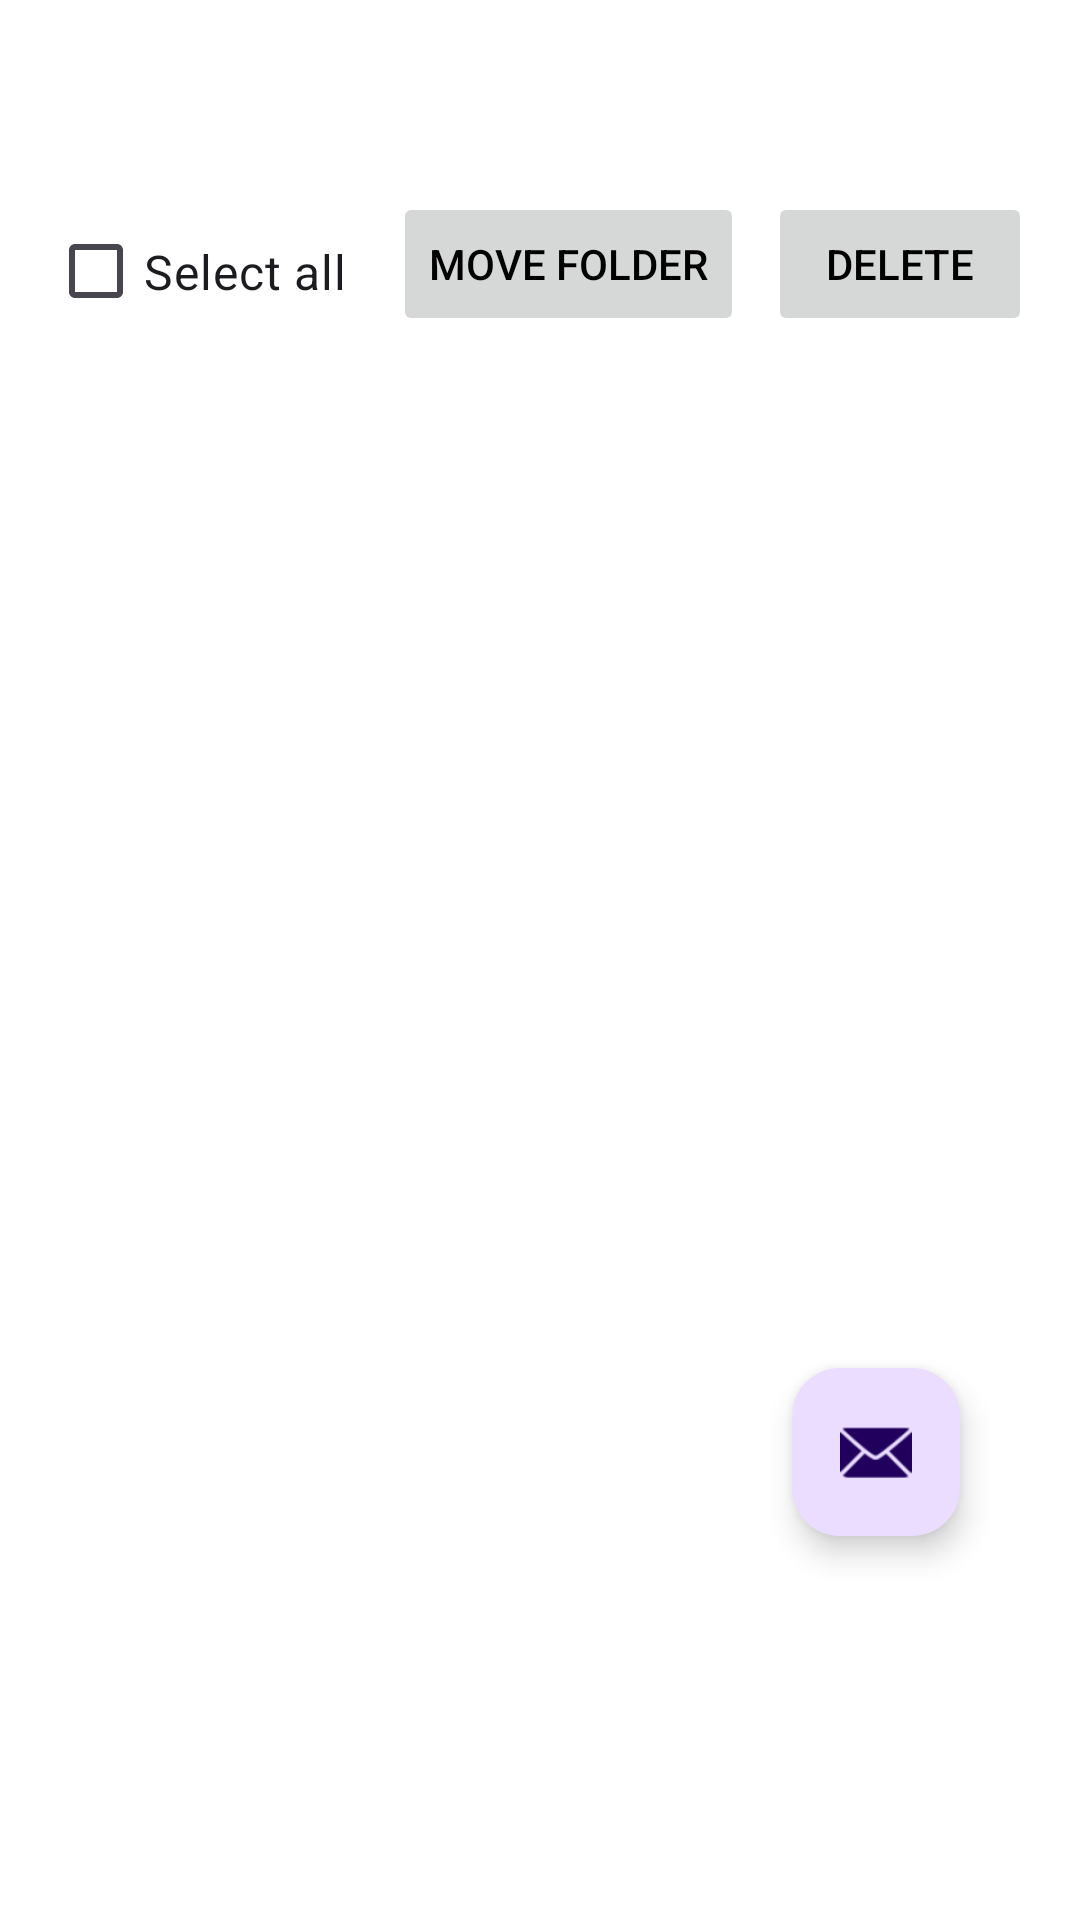

Screen size 1080*1920. Icon name, then its box in pixels as BBox(x1, y1, x2, y2):
email: BBox(792, 1368, 960, 1536)
